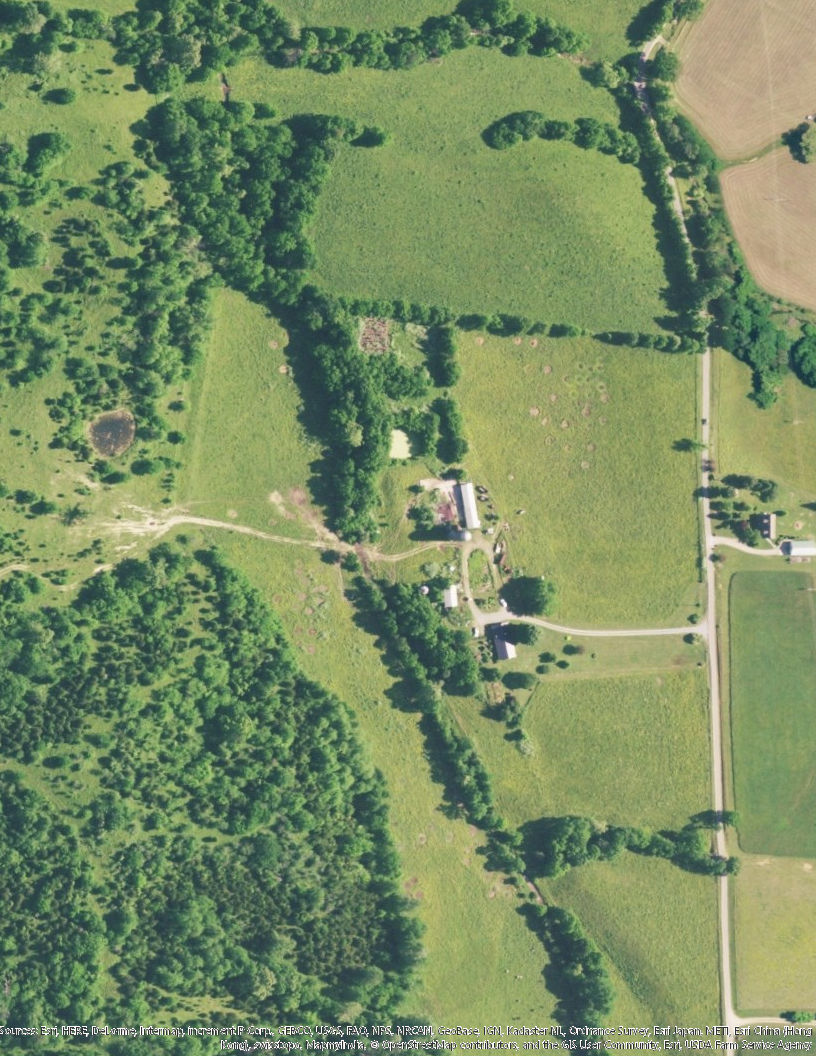cafo: (455, 477, 488, 541), (487, 621, 521, 665), (441, 580, 464, 610)
